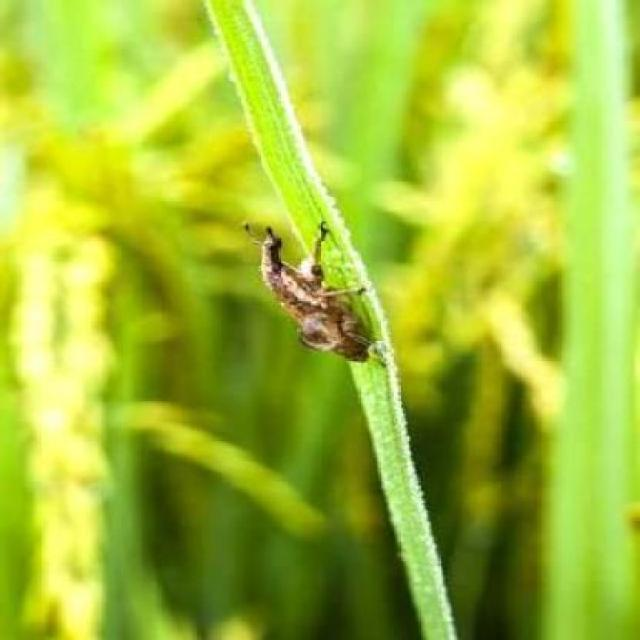rice-bug: (236, 222, 384, 364)
